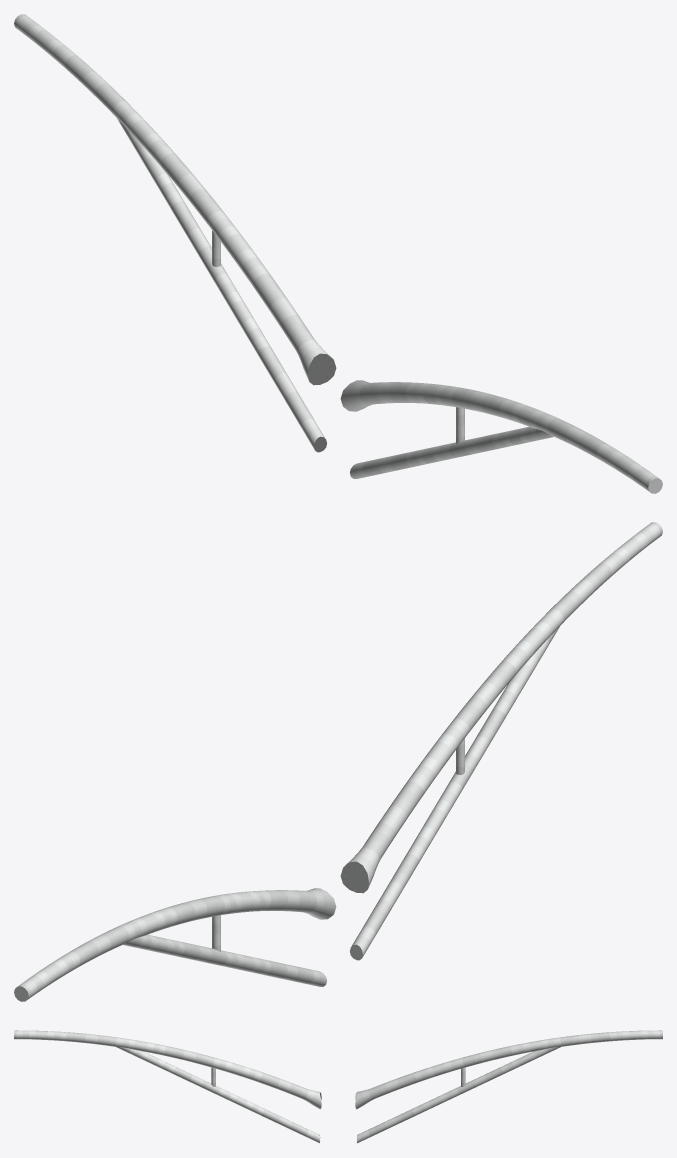
Rendered from luminairearm_truss15ftdouble_inv.obj.
The picture shows the model from 3 angles, top to bottom: view 1: azimuth 30°, elevation 25°; view 2: azimuth 150°, elevation 25°; view 3: azimuth 270°, elevation 25°; orthographic projection. The views are drawn at different scales.
Parts seen in each view (by area): view 1: luminairearm_truss15ftdouble_inv; view 2: luminairearm_truss15ftdouble_inv; view 3: luminairearm_truss15ftdouble_inv.
Part boxes in pixels (left/top/right/bottom): luminairearm_truss15ftdouble_inv: left=14, top=14, right=662, bottom=493; luminairearm_truss15ftdouble_inv: left=14, top=522, right=662, bottom=1001; luminairearm_truss15ftdouble_inv: left=14, top=1030, right=662, bottom=1143.
Bounding box in the file's own units: 0.026 × 0.1909 × 1.
